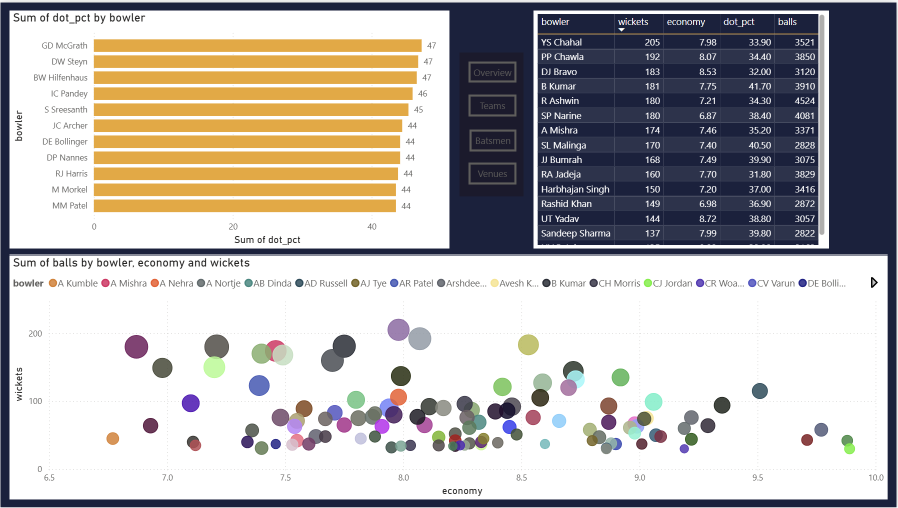

The page's visual inventory and layout, read from the dashboard file:
{"tool":"powerbi","page":{"name":"Bowlers","canvas":[1280,720],"ordinal":3},"visuals":[{"type":"textbox","box":[655.7,71.4,91.4,205.7],"z":0},{"type":"tableEx","fields":{"Values":["Bowlers.bowler","Bowlers.wickets","Bowlers.economy","Bowlers.dot_pct","Bowlers.balls"]},"box":[761.4,11.4,421.4,340],"z":1000},{"type":"scatterChart","fields":{"X":["Bowlers.economy"],"Y":["Bowlers.wickets"],"Series":["Bowlers.bowler"],"Size":["Sum(Bowlers.balls)"]},"box":[12.9,360,1254.3,348.6],"z":2000},{"type":"barChart","fields":{"Y":["Sum(Bowlers.dot_pct)"],"Category":["Bowlers.bowler"]},"box":[12.9,11.4,628.6,340],"z":3000},{"type":"actionButton","box":[668.6,84.3,68.6,30],"z":4000},{"type":"actionButton","box":[668.6,228.6,68.6,31.4],"z":5000},{"type":"actionButton","box":[668.6,131.4,68.6,31.4],"z":6000},{"type":"actionButton","box":[670,181.4,67.1,31.4],"z":7000}]}

Visuals, with their boxes in screenshot pixels (x1, y1, x2, y2), scaled from the page's 1280x720 canvas onto the 898x508 screenshot:
textbox: bbox=[460, 50, 524, 196]
tableEx - Bowlers.bowler x Bowlers.wickets: bbox=[534, 8, 830, 248]
scatterChart - Bowlers.economy x Bowlers.wickets: bbox=[9, 254, 889, 500]
barChart - Sum(Bowlers.dot_pct) x Bowlers.bowler: bbox=[9, 8, 450, 248]
actionButton: bbox=[469, 59, 517, 81]
actionButton: bbox=[469, 161, 517, 183]
actionButton: bbox=[469, 93, 517, 115]
actionButton: bbox=[470, 128, 517, 150]
